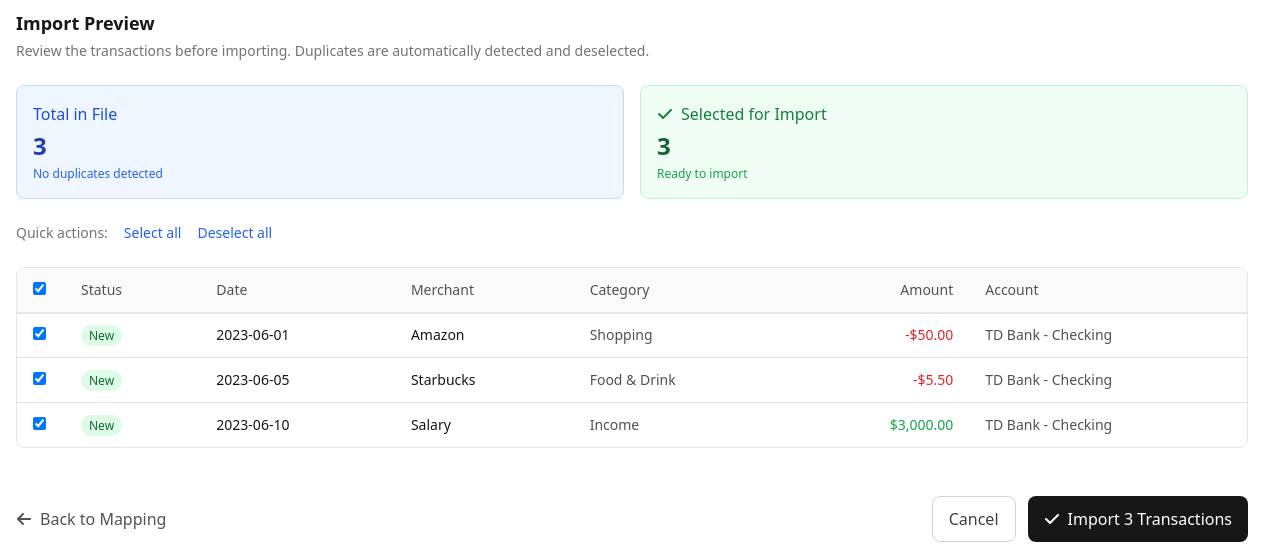
ImportPreviewStep › Selection Controls › select all / deselect all work correctly
The width and height of the screenshot is (1265, 559).
What coordinates should you click on to do the following:
click the button "Deselect all"
I would click on:
 (235, 233)
Its box is left=198, top=223, right=272, bottom=243.
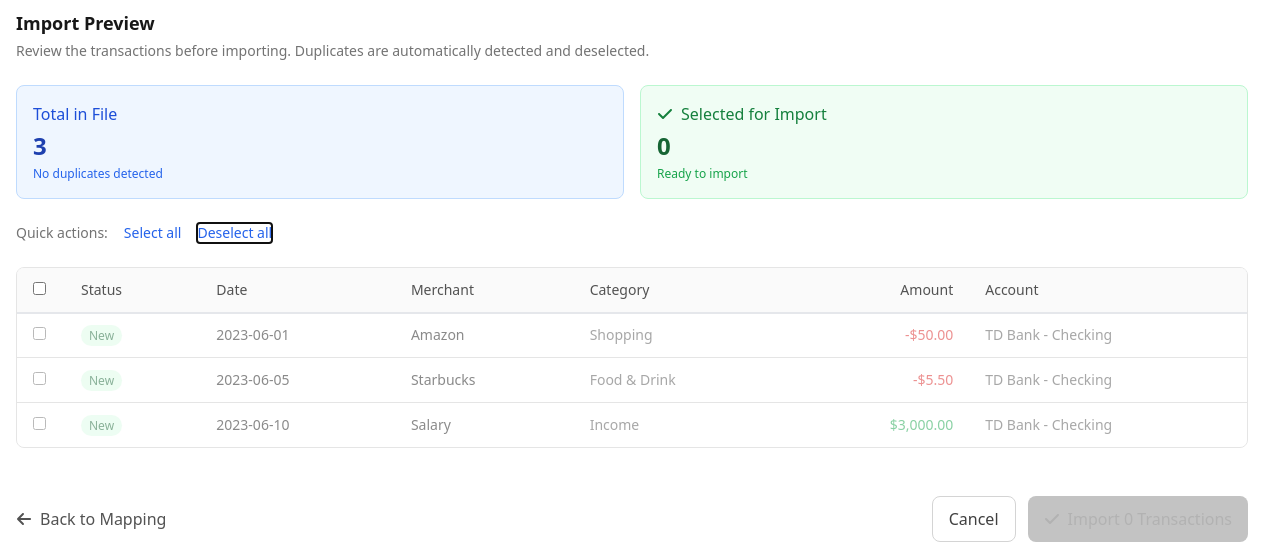
Expected: the button "Import 0 Transactions" is disabled, left=1028, top=496, right=1248, bottom=542
What coordinates should you click on to do the following:
click the button "Select all"
I would click on:
 (153, 233)
Its box is left=124, top=223, right=182, bottom=243.
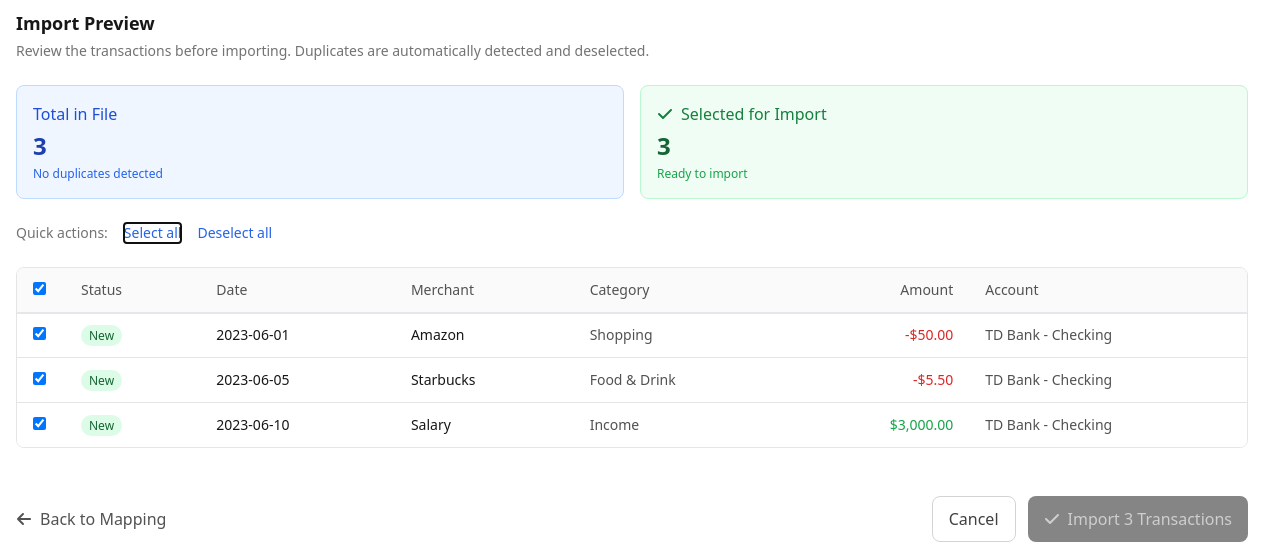
Expected: the button "Import 3 Transactions" is shown, left=1028, top=496, right=1248, bottom=542
